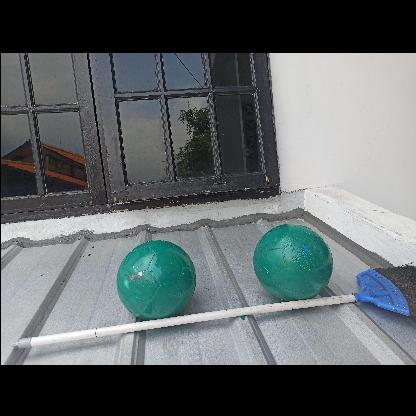green_ball: (112, 238, 196, 322), (252, 219, 332, 299)
